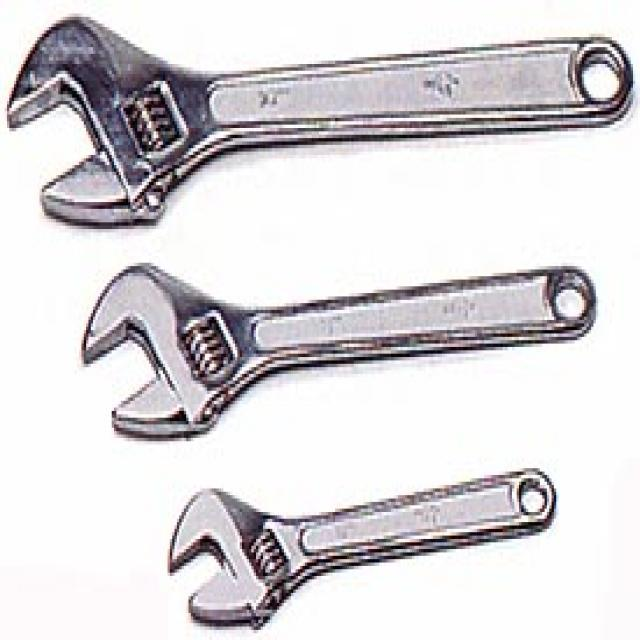wrench: (4, 10, 638, 236), (75, 254, 602, 451), (163, 464, 562, 636)
